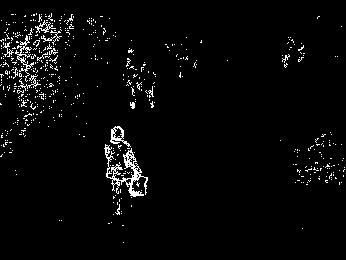person: (106, 124, 148, 217)
